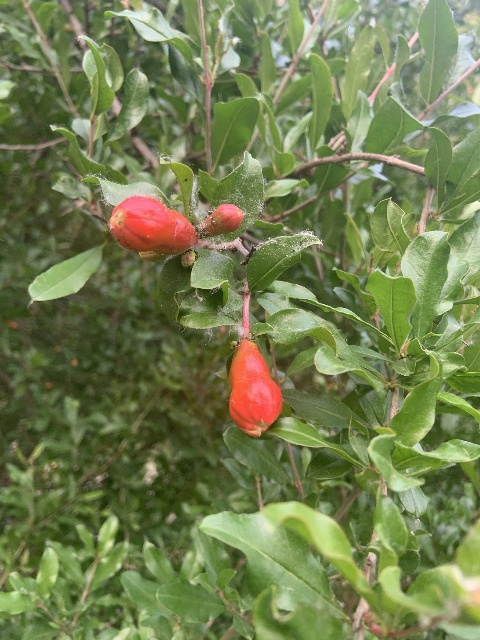bud: (109, 195, 198, 254), (228, 339, 282, 436), (204, 203, 243, 236)
